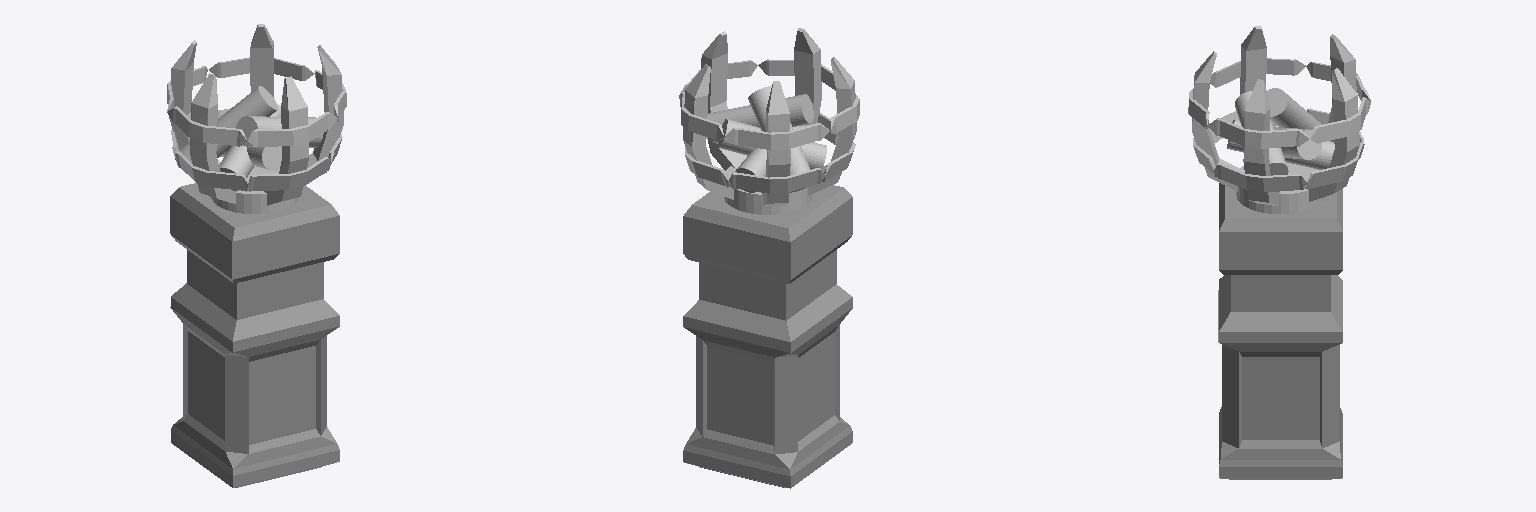
The model's file is brazier.obj.
The picture shows the model from 3 angles: view 1: azimuth 30°, elevation 25°; view 2: azimuth 150°, elevation 25°; view 3: azimuth 270°, elevation 25°; orthographic projection.
Visible parts, largest first — view 1: Cube, Cube.001_Cube.003, Cylinder.003, Cylinder, Cylinder.004, Cylinder.002, Cylinder.001; view 2: Cube, Cube.001_Cube.003, Cylinder.004, Cylinder, Cylinder.002, Cylinder.003, Cylinder.001; view 3: Cube, Cube.001_Cube.003, Cylinder, Cylinder.003, Cylinder.004, Cylinder.001, Cylinder.002.
Part boxes in pixels (left/top/right/bottom): Cube: left=170, top=183, right=339, bottom=487; Cube.001_Cube.003: left=167, top=24, right=346, bottom=205; Cylinder.003: left=180, top=86, right=277, bottom=162; Cylinder: left=211, top=166, right=298, bottom=213; Cylinder.004: left=236, top=116, right=323, bottom=147; Cylinder.002: left=219, top=104, right=280, bottom=190; Cylinder.001: left=220, top=146, right=281, bottom=170; Cube: left=683, top=185, right=852, bottom=488; Cube.001_Cube.003: left=679, top=28, right=859, bottom=206; Cylinder.004: left=707, top=94, right=813, bottom=142; Cylinder: left=724, top=166, right=811, bottom=214; Cylinder.002: left=718, top=119, right=826, bottom=169; Cylinder.003: left=748, top=86, right=810, bottom=192; Cylinder.001: left=735, top=124, right=810, bottom=192; Cube: left=1218, top=183, right=1342, bottom=479; Cube.001_Cube.003: left=1188, top=25, right=1370, bottom=205; Cylinder: left=1236, top=162, right=1324, bottom=213; Cylinder.003: left=1267, top=88, right=1321, bottom=129; Cylinder.004: left=1235, top=91, right=1288, bottom=175; Cylinder.001: left=1227, top=119, right=1334, bottom=169; Cylinder.002: left=1274, top=126, right=1321, bottom=159.
Bounding box in the file's own units: 1.66 × 4.13 × 1.69.